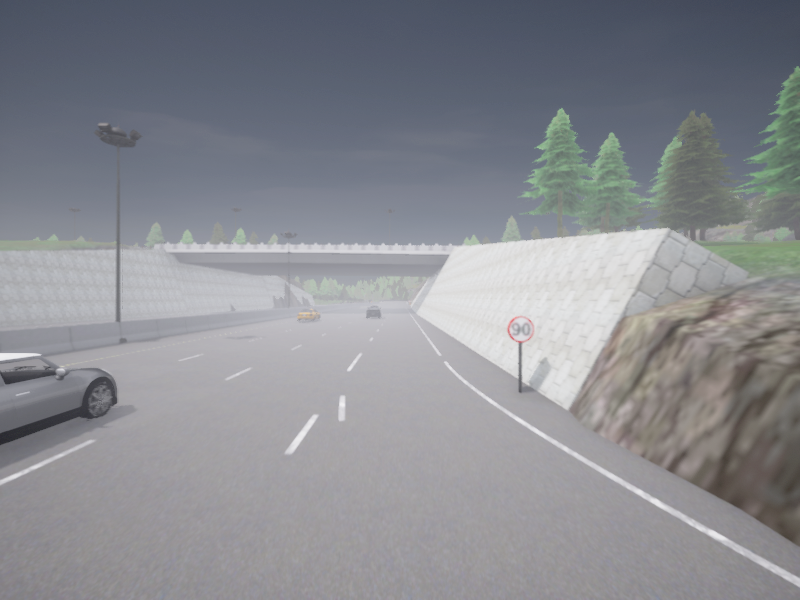vehicle: (0, 353, 117, 445), (297, 307, 320, 320), (366, 306, 381, 317)
